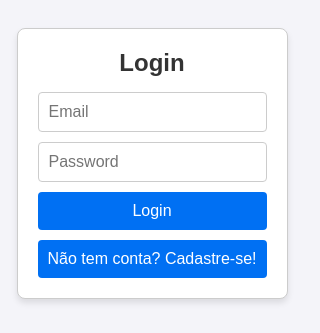
Test: LoginForm › deve exibir erro quando o campo de senha estiver vazio
Type "test@example.com" into the field with placeholder "Email" at [152, 112], box [38, 92, 266, 132]
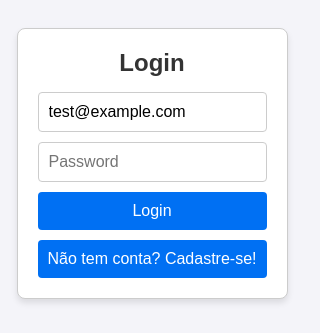
Click the button "Login" at [152, 210], box [38, 192, 266, 230]
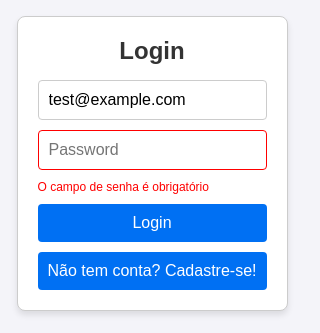
Now the text "O campo de senha é obrigatório" is shown, box [38, 180, 209, 194]
